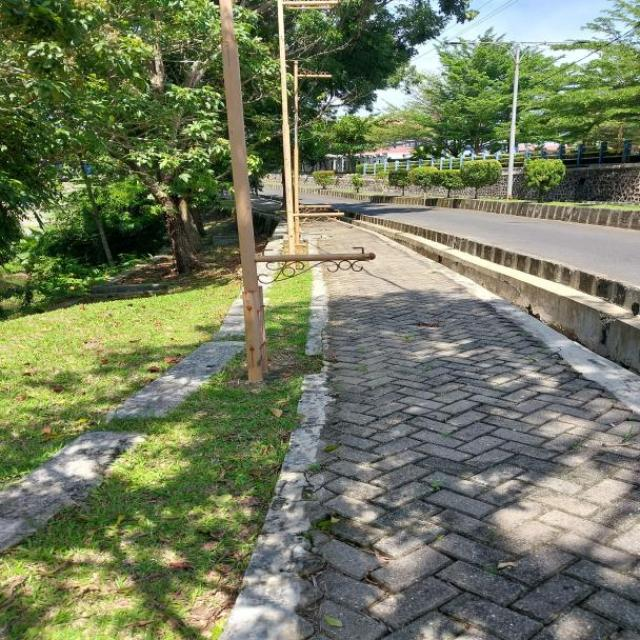electric pole ahead at: (213, 0, 274, 382)
